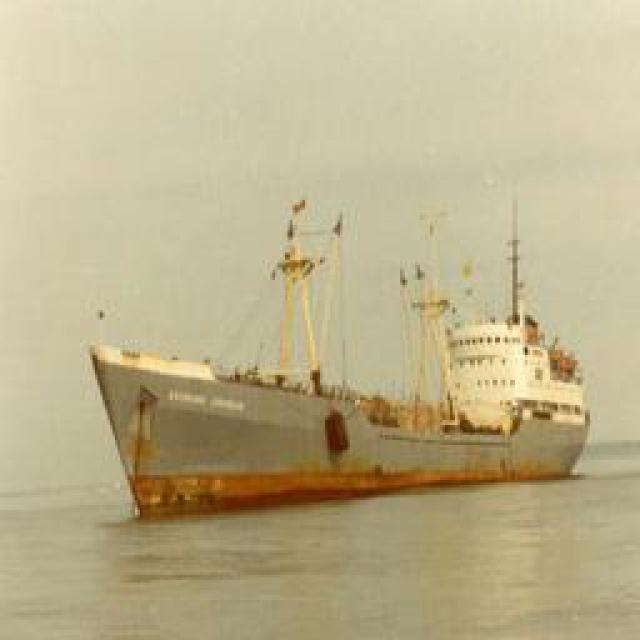Ship: (95, 187, 595, 505)
